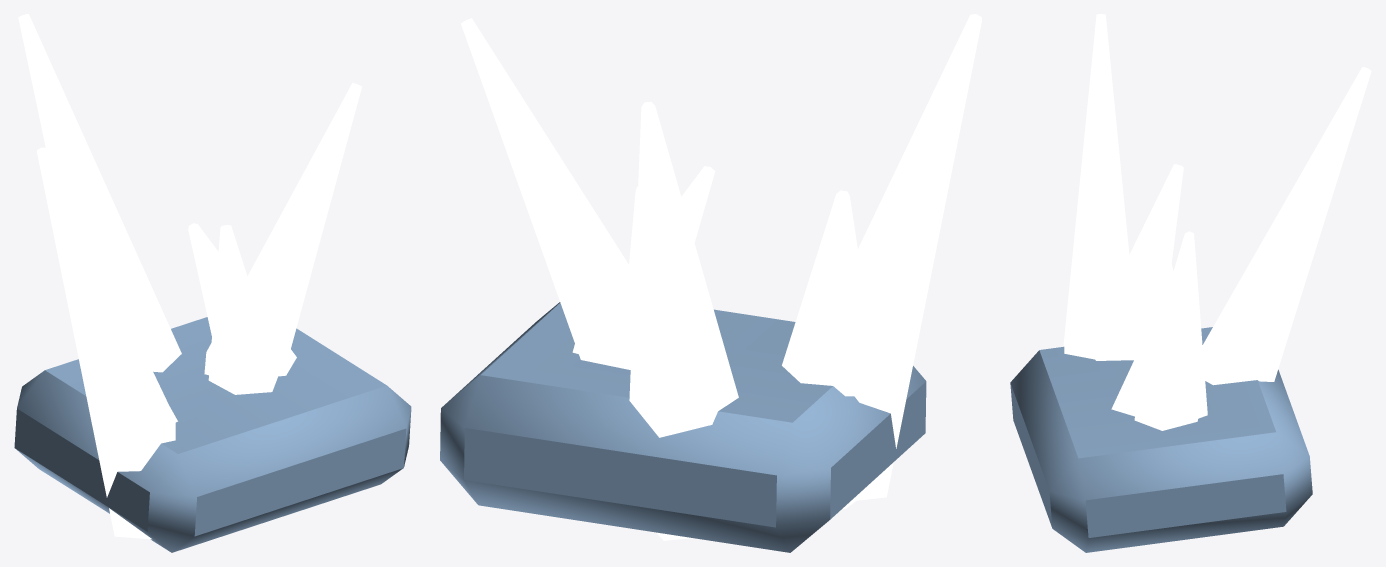
The model's file is cv_eis_deco_1.glb.
3 views of the same model, side by side, from view 1: azimuth 30°, elevation 25°; view 2: azimuth 150°, elevation 25°; view 3: azimuth 270°, elevation 25° (orthographic). The views are drawn at different scales.
Parts seen in each view (by area): view 1: crystal_glow, body; view 2: crystal_glow, body; view 3: crystal_glow, body.
Part boxes in pixels (bbox=[...]): crystal_glow: bbox=[18, 14, 361, 539]; body: bbox=[14, 317, 411, 552]; crystal_glow: bbox=[461, 14, 981, 540]; body: bbox=[440, 302, 926, 552]; crystal_glow: bbox=[1063, 14, 1371, 430]; body: bbox=[1010, 327, 1312, 552].
Size of the model in its own units: 1.53 by 1.64 by 1.37.
